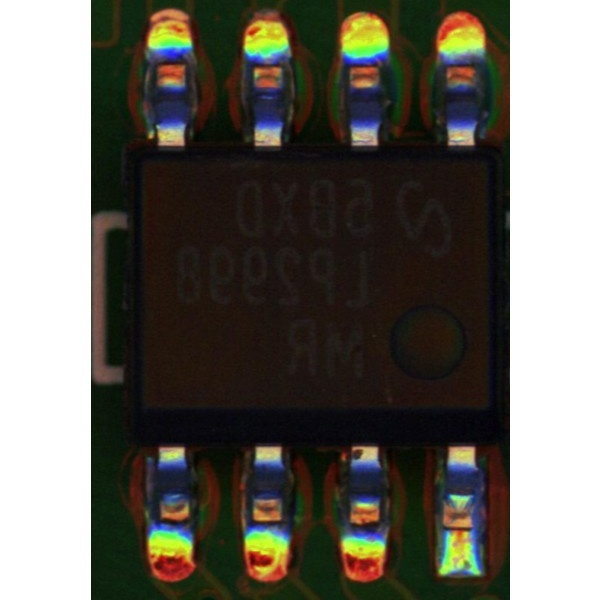Bad_podu: (448, 519, 472, 545)
